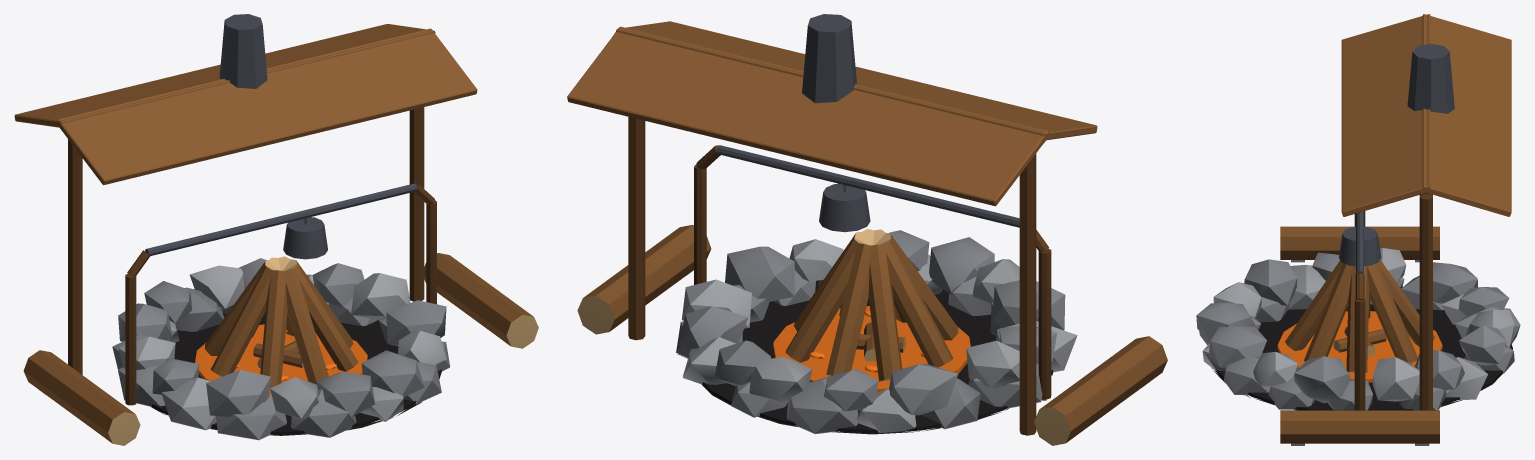
The model's file is campfire_4.glb.
3 views of the same model, side by side, from view 1: azimuth 30°, elevation 25°; view 2: azimuth 150°, elevation 25°; view 3: azimuth 270°, elevation 25° (orthographic). The views are drawn at different scales.
Parts seen in each view (by area): view 1: campfire_4, campfire_4_craft; view 2: campfire_4, campfire_4_craft; view 3: campfire_4, campfire_4_craft.
Part boxes in pixels (x1,y1,x2,y2): campfire_4: (23,183,538,445); campfire_4_craft: (14,14,477,381); campfire_4: (577,145,1167,445); campfire_4_craft: (567,14,1097,435); campfire_4: (1196,211,1520,445); campfire_4_craft: (1341,14,1511,410).
Size of the model in its own units: 5.3 by 3.75 by 3.65.
